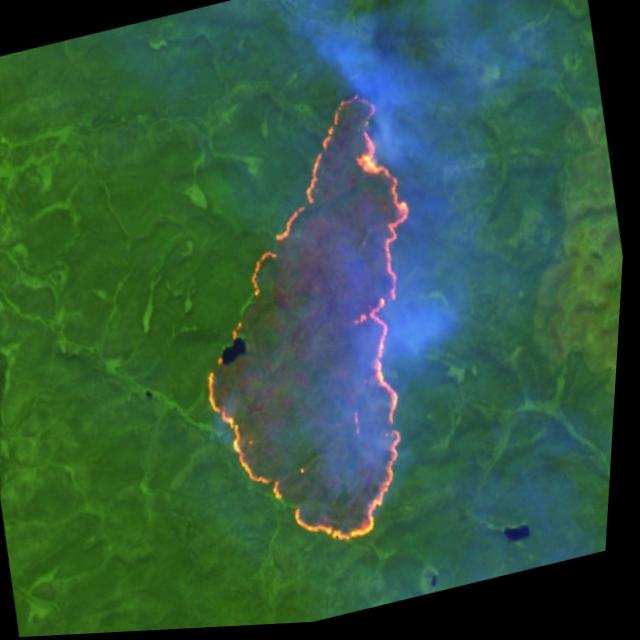fire: (149, 72, 483, 584)
